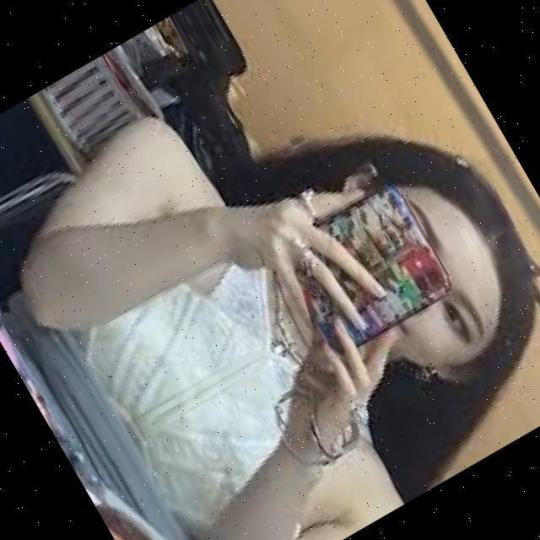phone: (261, 191, 452, 366)
